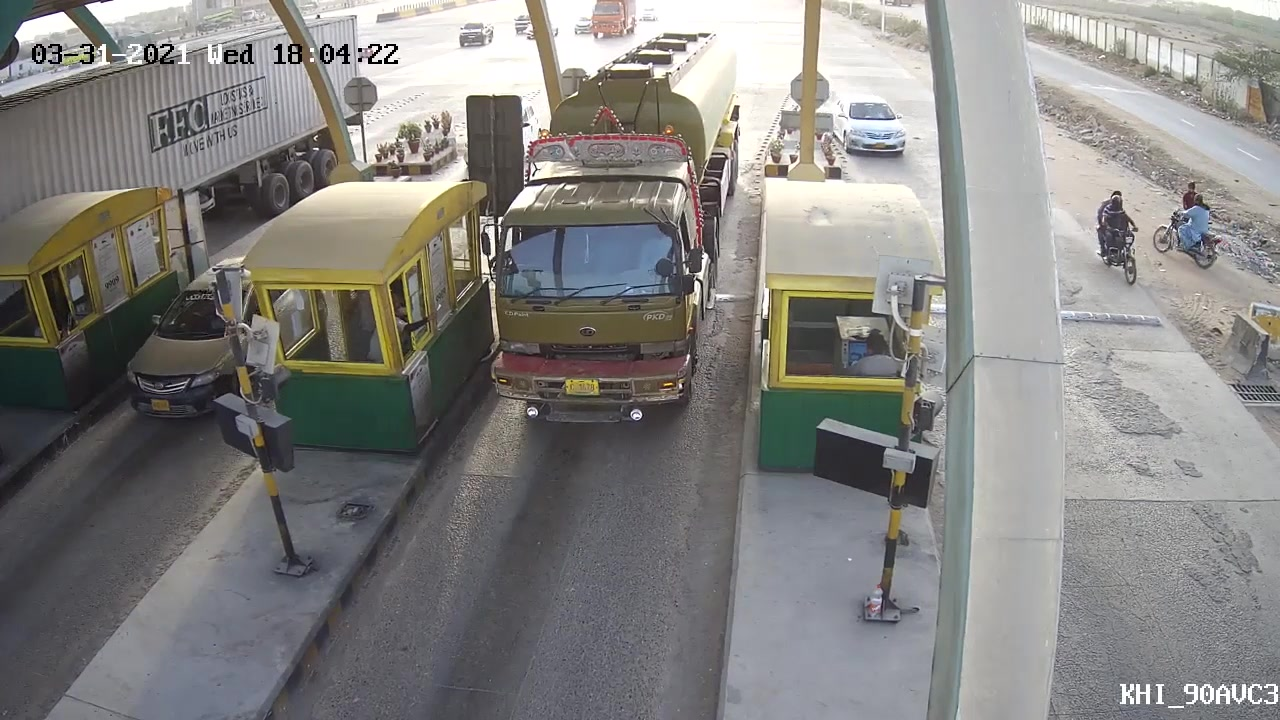F6: (465, 33, 751, 427)
